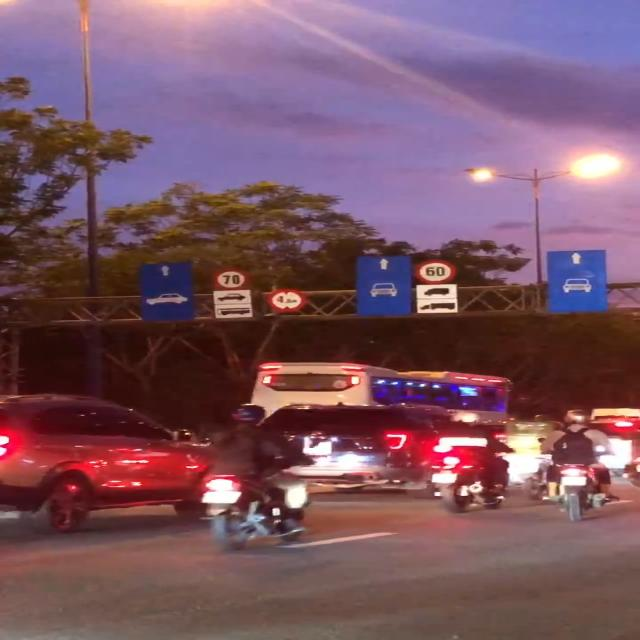Bien bao han che chieu cao: (261, 284, 309, 312)
Bien bao toc do toi da cho phep: (412, 258, 460, 286), (209, 268, 255, 293)
